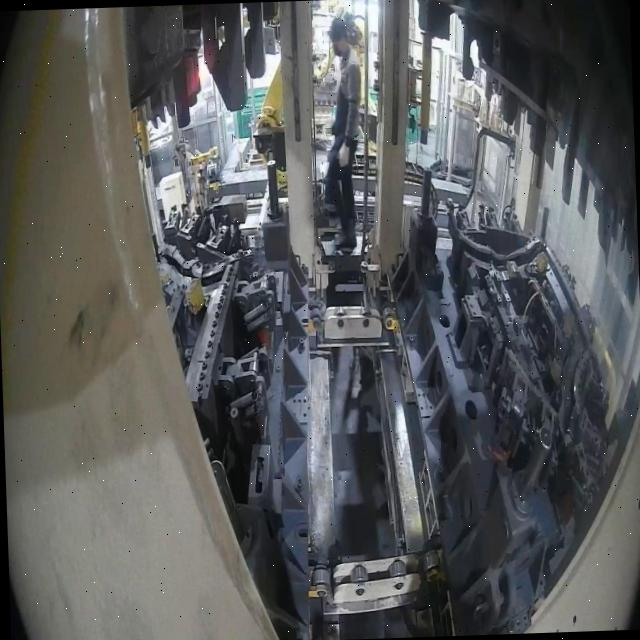Person: (316, 14, 367, 250)
